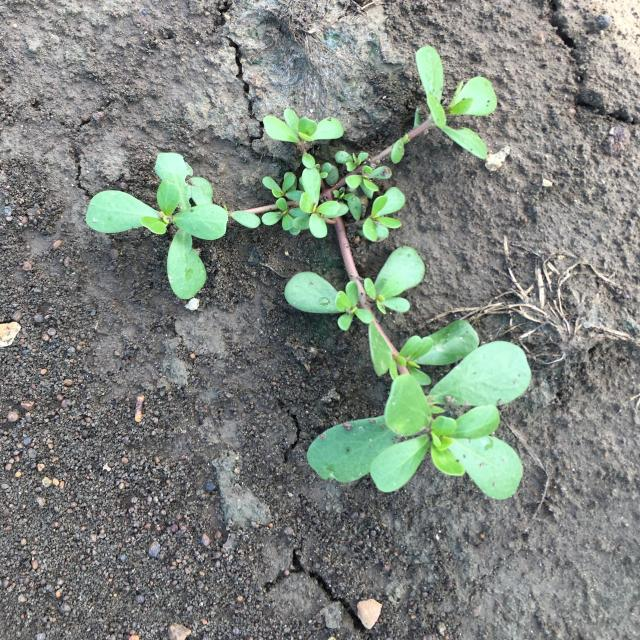Purslane: (86, 46, 532, 501)
